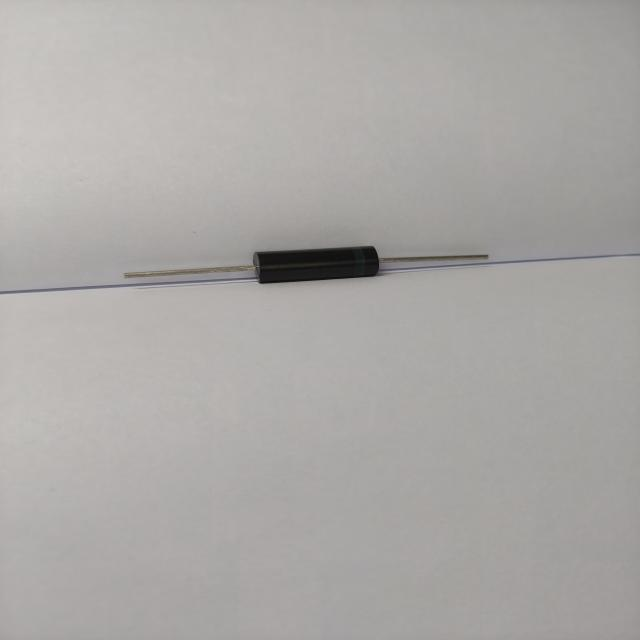resistor: (104, 232, 503, 296)
